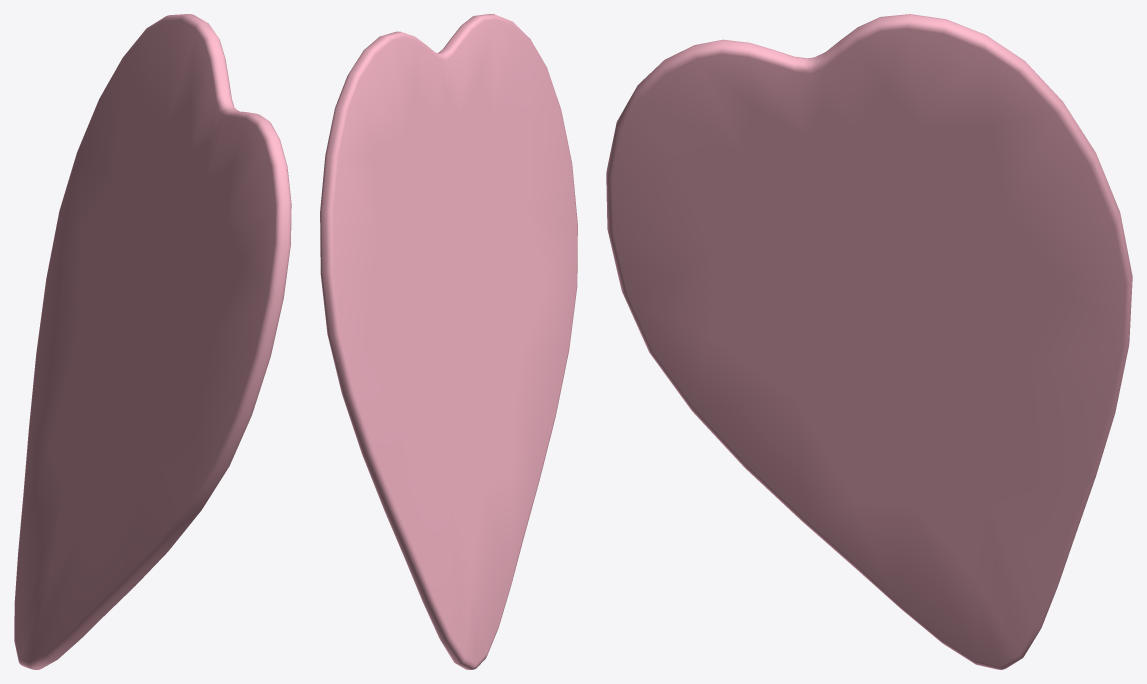
Rendered from pinkFlower_5.glb.
The picture shows the model from 3 angles, left to right: view 1: azimuth 30°, elevation 25°; view 2: azimuth 150°, elevation 25°; view 3: azimuth 270°, elevation 25°; orthographic projection. The views are drawn at different scales.
Parts seen in each view (by area): view 1: Petal_01_Sakura_Cleft.093; view 2: Petal_01_Sakura_Cleft.093; view 3: Petal_01_Sakura_Cleft.093.
Boxes of the visible parts, x1,y1,x2,y2 form: Petal_01_Sakura_Cleft.093: (14,14,291,669); Petal_01_Sakura_Cleft.093: (320,14,577,669); Petal_01_Sakura_Cleft.093: (606,14,1132,669).
Bounding box in the file's own units: 0.6628 × 2.67 × 1.75.
